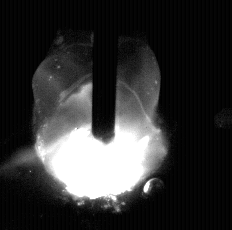arame: (93, 0, 117, 144)
poca: (35, 0, 167, 230)
